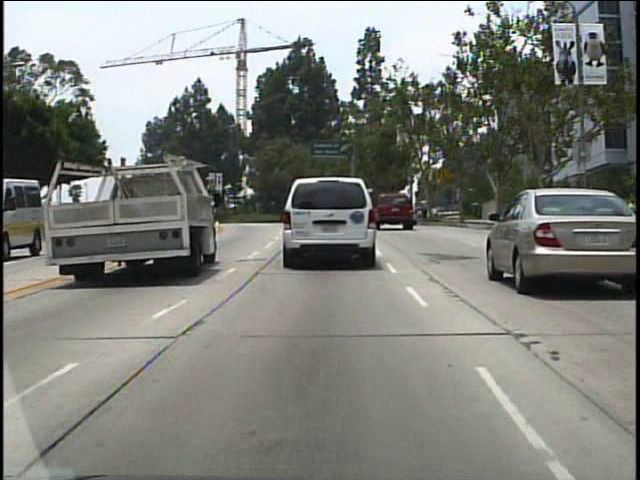person: (417, 194, 431, 225)
